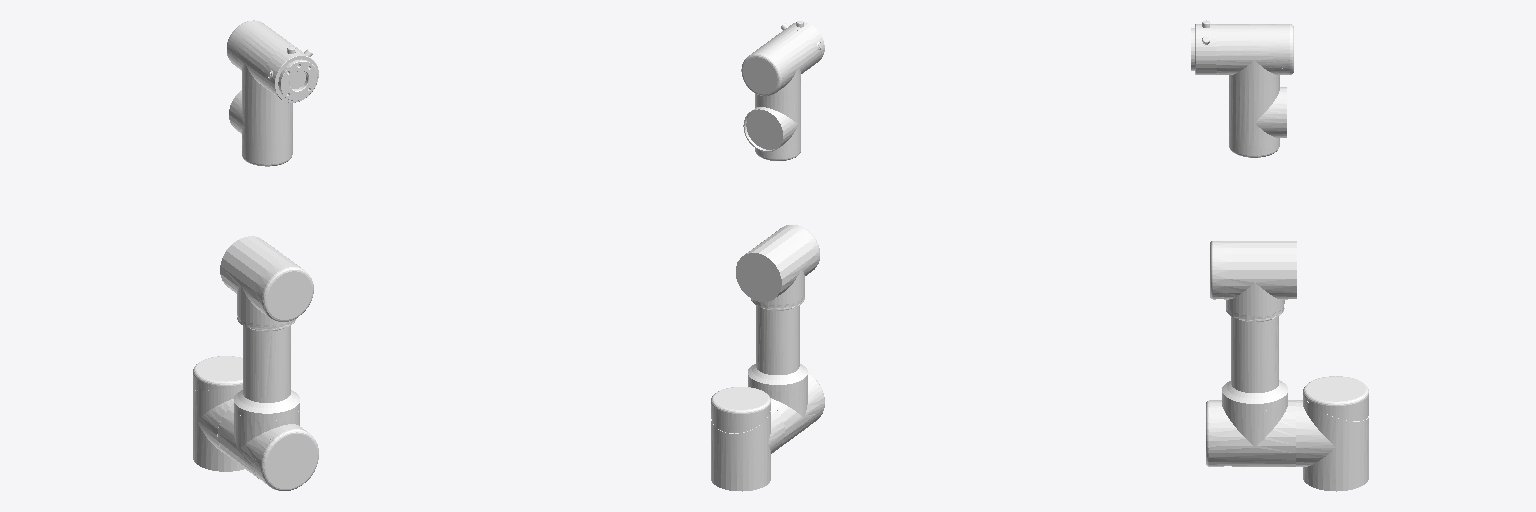
The robot description file, URDF, robot "aubo_iS3_S0":
<?xml version="1.0"?>
<robot  name="aubo_iS3_S0">
  <dh_type type="modified"/>
  <safety_para singularity_consistent="0.02 0.01 10 0.2 0.045 10"/>	
  <link name="base_link">
    <inertial>
      <origin xyz="0.000145 -0.000526 0.034207" rpy="0 0 0" />
      <mass value="1.412307" />
      <inertia ixx="0.002893" ixy="-0.000001" ixz="0.000002" iyy="0.002866" iyz="-0.000011" izz="0.003975" />
    </inertial>
    <visual>
      <origin xyz="0 0 0" rpy="0 0 0" />
      <geometry>
        <mesh filename="package://aubo_description/meshes/aubo_iS3_S0/collision/link0.STL" />
      </geometry>
      <material name="">
        <color rgba="1 1 1 1" />
      </material>
    </visual>
    <collision>
      <origin xyz="0 0 0" rpy="0 0 0" />
      <geometry>
        <mesh filename="package://aubo_description/meshes/aubo_iS3_S0/collision/link0.STL" />
      </geometry>
    </collision>
  </link>

  <link name="shoulder_Link">
    <inertial>
      <origin xyz="-0.000014 0.001713 -0.019537" rpy="0 0 0" />
      <mass value="2.906210" />
      <inertia ixx="0.004711" ixy="-0.000001" ixz="0.000001" iyy="0.004690" iyz="-0.000119" izz="0.003359" />
    </inertial>
    <visual>
      <origin xyz="0 0 0" rpy="0 0 0" />
      <geometry>
        <mesh filename="package://aubo_description/meshes/aubo_iS3_S0/collision/link1.STL" />
      </geometry>
      <material name="">
        <color rgba="1 1 1 1" />
      </material>
    </visual>
    <collision>
      <origin xyz="0 0 0" rpy="0 0 0" />
      <geometry>
        <mesh filename="package://aubo_description/meshes/aubo_iS3_S0/collision/link1.STL" />
      </geometry>
    </collision>
  </link>

  <joint name="shoulder_joint" type="revolute">
    <origin xyz="0 0 0.156" rpy="0 0 3.1415926535897932384626433832795" />
    <parent link="base_link" />
    <child link="shoulder_Link" />
    <axis xyz="0 0 1" />
    <limit lower="-6.283185307179586476925286766559" upper="6.283185307179586476925286766559" effort="61" start_stop="102" velocity="3.1104877758314784539234092903757" />
    <property inertia="0" damping="0" stiffness="0" offset="0" motor_constant="8.58" ratio="101"/>
  </joint>

  <link name="upperArm_Link">
    <inertial>
      <origin xyz="0.116495 0.000006 -0.016602" rpy="0 0 0" />
      <mass value="5.583211" />
      <inertia ixx="0.008619" ixy="0.000007" ixz="-0.001257" iyy="0.096760" iyz="-0.000001" izz="0.094072" />
    </inertial>
    <visual>
      <origin xyz="0 0 0" rpy="0 0 0" />
      <geometry>
        <mesh filename="package://aubo_description/meshes/aubo_iS3_S0/collision/link2.STL" />
      </geometry>
      <material name="">
        <color rgba="1 1 1 1" />
      </material>
    </visual>
    <collision>
      <origin xyz="0 0 0" rpy="0 0 0" />
      <geometry>
        <mesh filename="package://aubo_description/meshes/aubo_iS3_S0/collision/link2.STL" />
      </geometry>
    </collision>
  </link>

  <joint name="upperArm_joint" type="revolute">
    <origin xyz="0 0.1205 0" rpy="-1.5707963267948966192313216916398 -1.5707963267948966192313216916398 0" />
    <parent link="shoulder_Link" />
    <child link="upperArm_Link" />
    <axis xyz="0 0 1" />
    <limit lower="-6.283185307179586476925286766559" upper="6.283185307179586476925286766559" effort="61" start_stop="102" velocity="3.1104877758314784539234092903757" />
    <property inertia="0" damping="0" stiffness="0" offset="0" motor_constant="8.58" ratio="101"/>
  </joint>

  <link name="foreArm_Link">
    <inertial>
      <origin xyz="0.198096 0.001004 0.095317" rpy="0 0 0" />
      <mass  value="2.199571" />
      <inertia ixx="0.002384" ixy="-0.000096" ixz="0.000641" iyy="0.021203" iyz="0.000004" izz="0.020596" />
    </inertial>
    <visual>
      <origin xyz="0 0 0" rpy="0 0 0" />
      <geometry>
        <mesh filename="package://aubo_description/meshes/aubo_iS3_S0/collision/link3.STL" />
      </geometry>
      <material name="">
        <color rgba="1 1 1 1" />
      </material>
    </visual>
    <collision>
      <origin xyz="0 0 0" rpy="0 0 0" />
      <geometry>
        <mesh filename="package://aubo_description/meshes/aubo_iS3_S0/collision/link3.STL" />
      </geometry>
    </collision>
  </link>

  <joint name="foreArm_joint" type="revolute">
    <origin xyz="0.266 0 0" rpy="-3.1415926535897932384626433832795 0 0" />
    <parent link="upperArm_Link" />
    <child link="foreArm_Link" />
    <axis xyz="0 0 1" />
    <limit lower="-6.283185307179586476925286766559" upper="6.283185307179586476925286766559" effort="49" start_stop="66" velocity="3.1104877758314784539234092903757" />
    <property inertia="0" damping="0" stiffness="0" offset="0" motor_constant="8.81" ratio="101"/>
  </joint>

  <link name="wrist1_Link">
    <inertial>
      <origin xyz="0.000022 0.014886 -0.001687" rpy="0 0 0" />
      <mass value="1.505192" />
      <inertia ixx="0.001628" ixy="0.000001" ixz="0.000001" iyy="0.001015" iyz="-0.000042" izz="0.001603" />
    </inertial>
    <visual>
      <origin xyz="0 0 0" rpy="0 0 0" />
      <geometry>
        <mesh filename="package://aubo_description/meshes/aubo_iS3_S0/collision/link4.STL" />
      </geometry>
      <material name="">
        <color rgba="1 1 1 1" />
      </material>
    </visual>
    <collision>
      <origin xyz="0 0 0" rpy="0 0 0" />
      <geometry>
        <mesh filename="package://aubo_description/meshes/aubo_iS3_S0/collision/link4.STL" />
      </geometry>
    </collision>
  </link>

  <joint name="wrist1_joint" type="revolute">
    <origin xyz="0.2565 0 0" rpy="3.1415926535897932384626433832795 0 1.5707963267948966192313216916398" />
    <parent link="foreArm_Link" />
    <child link="wrist1_Link" />
    <axis xyz="0 0 1" />
    <limit lower="-6.283185307179586476925286766559" upper="6.283185307179586476925286766559" effort="13.5" start_stop="34" velocity="3.1104877758314784539234092903757" />
    <property inertia="0" damping="0" stiffness="0" offset="0" motor_constant="7.092" ratio="101"/>
  </joint>

  <link name="wrist2_Link">
    <inertial>
      <origin xyz="-0.000022 -0.014886 -0.001687" rpy="0 0 0" />
      <mass value="1.505192" />
      <inertia ixx="0.001628" ixy="0.000001" ixz="0.000001" iyy="0.001015" iyz="-0.000042" izz="0.001603" />
    </inertial>
    <visual>
      <origin xyz="0 0 0" rpy="0 0 0" />
      <geometry>
        <mesh filename="package://aubo_description/meshes/aubo_iS3_S0/collision/link5.STL" />
      </geometry>
      <material name="">
        <color rgba="1 1 1 1" />
      </material>
    </visual>
    <collision>
      <origin xyz="0 0 0" rpy="0 0 0" />
      <geometry>
        <mesh filename="package://aubo_description/meshes/aubo_iS3_S0/collision/link5.STL" />
      </geometry>
    </collision>
  </link>

  <joint name="wrist2_joint" type="revolute">
    <origin xyz="0 0.1025 0" rpy="-1.5707963267948966192313216916398 0 0" />
    <parent link="wrist1_Link" />
    <child link="wrist2_Link" />
    <axis xyz="0 0 1" />
    <limit lower="-6.283185307179586476925286766559" upper="6.283185307179586476925286766559" effort="13.5" start_stop="34" velocity="3.1104877758314784539234092903757" />
    <property inertia="0" damping="0" stiffness="0" offset="0" motor_constant="7.092" ratio="101"/>
  </joint>

  <link name="wrist3_Link">
    <inertial>
      <origin xyz="0.000826 -0.000398 -0.017152" rpy="0 0 0" />
      <mass value="0.238363" />
      <inertia ixx="0.000126" ixy="0.000002" ixz="0.000001" iyy="0.000130" iyz="-0.000001" izz="0.000207" />
    </inertial>
    <visual>
      <origin xyz="0 0 0" rpy="0 0 0" />
      <geometry>
        <mesh filename="package://aubo_description/meshes/aubo_iS3_S0/collision/link6.STL" />
      </geometry>
      <material name="">
        <color rgba="1 1 1 1" />
      </material>
    </visual>
    <collision>
      <origin xyz="0 0 0" rpy="0 0 0" />
      <geometry>
        <mesh filename="package://aubo_description/meshes/aubo_iS3_S0/collision/link6.STL" />
      </geometry>
    </collision>
  </link>

  <joint name="wrist3_joint" type="revolute">
    <origin xyz="0 -0.094 0" rpy="1.5707963267948966192313216916398 0 1.7907E-15" />
    <parent link="wrist2_Link" />
    <child link="wrist3_Link" />
    <axis xyz="0 0 1" />
    <limit lower="-6.283185307179586476925286766559" upper="6.283185307179586476925286766559" effort="13.5" start_stop="34" velocity="3.1104877758314784539234092903757" />
    <property inertia="0" damping="0" stiffness="0" offset="0" motor_constant="7.092" ratio="101"/>
  </joint>

  <link name="world" />

  <joint name="world_joint" type="fixed">
    <parent link="world" />
    <child link = "base_link" />
    <origin xyz="0.0 0.0 0.0" rpy="0.0 0.0 0.0" />
  </joint>
</robot>

--- What the picture shows (computed from the rendered views, not written in the file) ---
Views: 3 orthographic renders of the robot side by side, from view 1: azimuth 30°, elevation 25°; view 2: azimuth 150°, elevation 25°; view 3: azimuth 270°, elevation 25°.
Robot: aubo_iS3_S0 — 8 links, 7 joints (6 revolute, 1 fixed); root link world; default pose: all joints at 0.
Visible links, largest first — view 1: upperArm_Link, shoulder_Link, wrist1_Link, wrist2_Link, wrist3_Link; view 2: upperArm_Link, shoulder_Link, wrist2_Link, wrist1_Link, wrist3_Link; view 3: upperArm_Link, shoulder_Link, wrist2_Link, wrist1_Link, wrist3_Link.
Boxes of the visible links, bbox=[...] form: upperArm_Link: bbox=[218, 236, 318, 490]; shoulder_Link: bbox=[193, 356, 244, 471]; wrist1_Link: bbox=[229, 90, 292, 166]; wrist2_Link: bbox=[227, 20, 297, 96]; wrist3_Link: bbox=[264, 46, 318, 102]; upperArm_Link: bbox=[736, 225, 824, 446]; shoulder_Link: bbox=[711, 387, 784, 491]; wrist2_Link: bbox=[741, 29, 814, 98]; wrist1_Link: bbox=[743, 91, 800, 160]; wrist3_Link: bbox=[781, 21, 824, 67]; upperArm_Link: bbox=[1206, 241, 1296, 466]; shoulder_Link: bbox=[1296, 376, 1368, 491]; wrist2_Link: bbox=[1216, 24, 1293, 89]; wrist1_Link: bbox=[1229, 79, 1286, 157]; wrist3_Link: bbox=[1191, 20, 1216, 74].
Bounding box of the posed robot: 0.098 × 0.2635 × 0.7414 m (x, y, z).
5 mesh visuals loaded from 7 distinct referenced files (5 binary STL); not drawn: 2 (reference not matched to a file when rendering).
